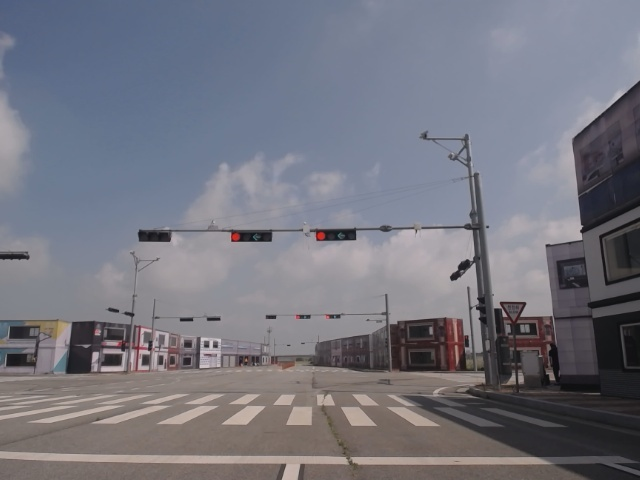left_green_4: (230, 232, 273, 242), (315, 231, 356, 241)
